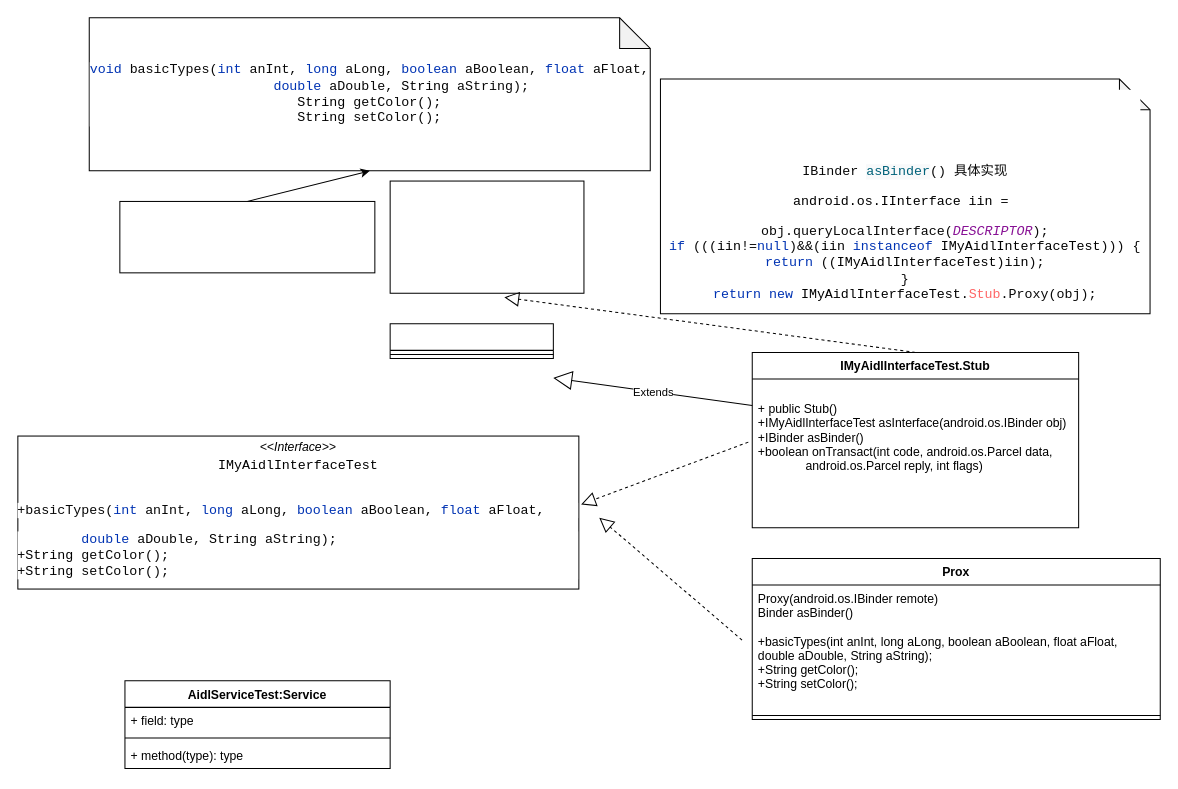
The diagram is 1178 pixels wide and 789 high, and some of its shapes have lost their labels. The shapes that lost their labels are listed below. From the top down, each one's box as (x1, y1, x2, y2) in pixels, then its label:
(119, 200, 375, 273): IMyAidlInterfaceTest.aidl
(389, 180, 584, 293): <<Interface>> android.os.IInterface + IBinder asBinder ()
(389, 323, 553, 359): Android.os.Binder
